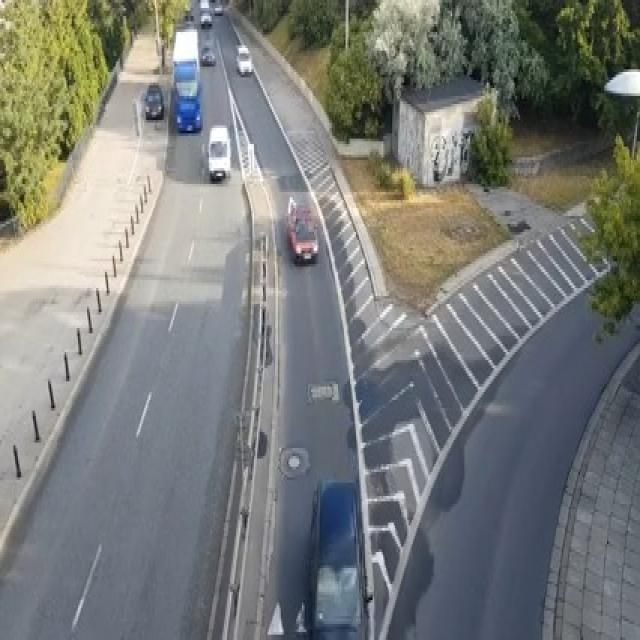bus: (308, 475, 362, 637)
car: (286, 195, 318, 264), (207, 126, 230, 182), (174, 90, 202, 130), (144, 83, 164, 120), (235, 42, 252, 74), (200, 43, 215, 64), (200, 10, 212, 27), (198, 0, 209, 11), (213, 0, 222, 13)
